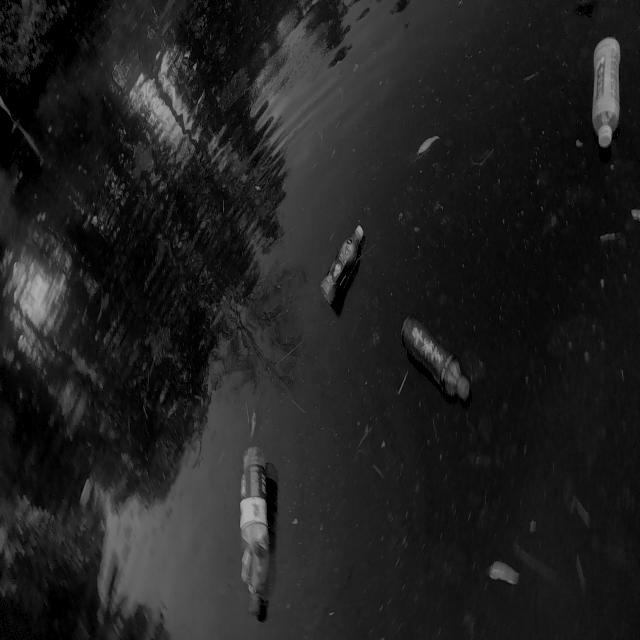bottle: (378, 282, 489, 424), (224, 441, 281, 624), (303, 209, 379, 313), (576, 29, 628, 155)
